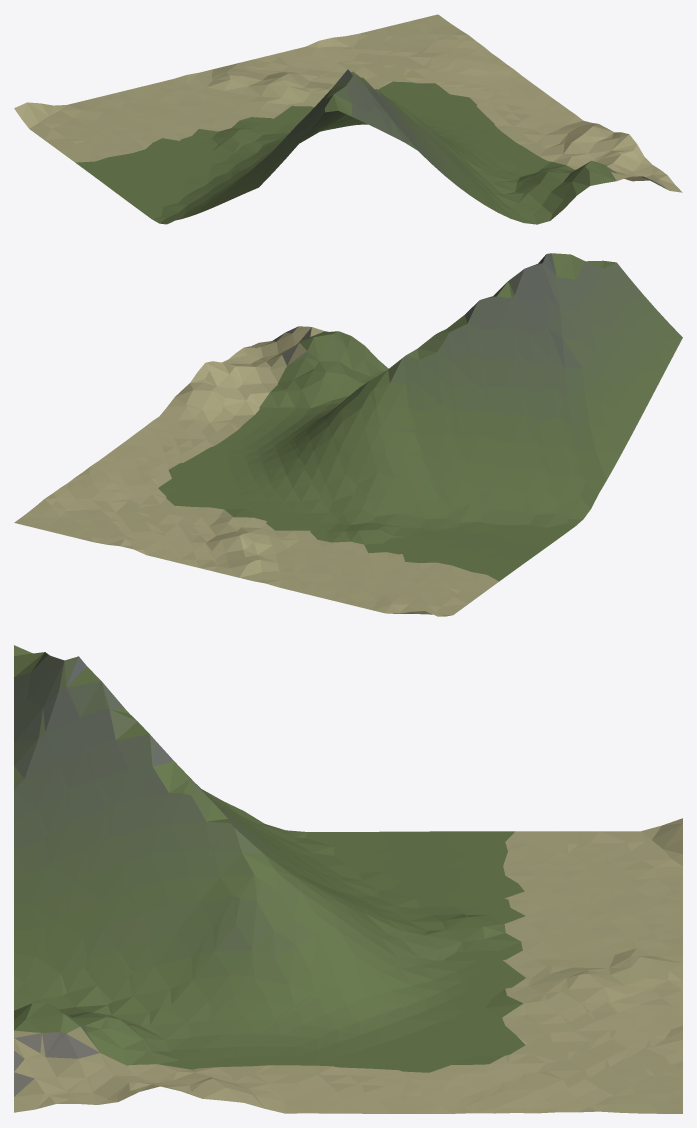
File: Ground_-2_-6.glb
3 renders of one model, top to bottom at view 1: azimuth 30°, elevation 25°; view 2: azimuth 150°, elevation 25°; view 3: azimuth 270°, elevation 25°, orthographic. The views are drawn at different scales.
Visible parts, largest first — view 1: Ground_-2_-6; view 2: Ground_-2_-6; view 3: Ground_-2_-6.
Boxes of the visible parts, left/top/right/bottom form: Ground_-2_-6: left=14, top=14, right=682, bottom=224; Ground_-2_-6: left=14, top=253, right=682, bottom=616; Ground_-2_-6: left=14, top=645, right=682, bottom=1113.
Size of the model in its own units: 768 by 318 by 768.
